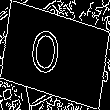O_S: (37, 25, 73, 85)
